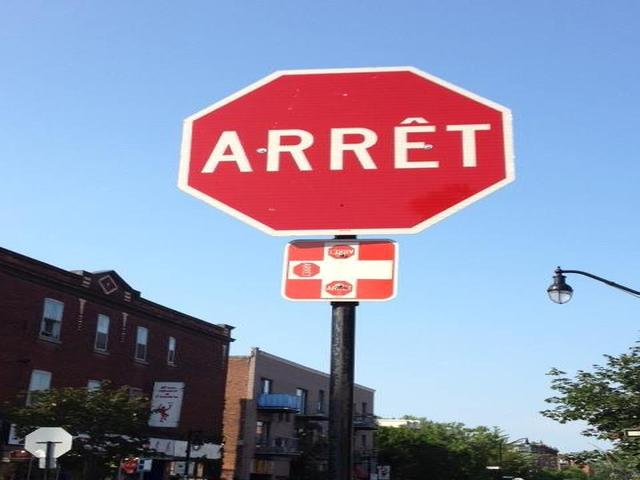stop: (176, 62, 522, 237)
